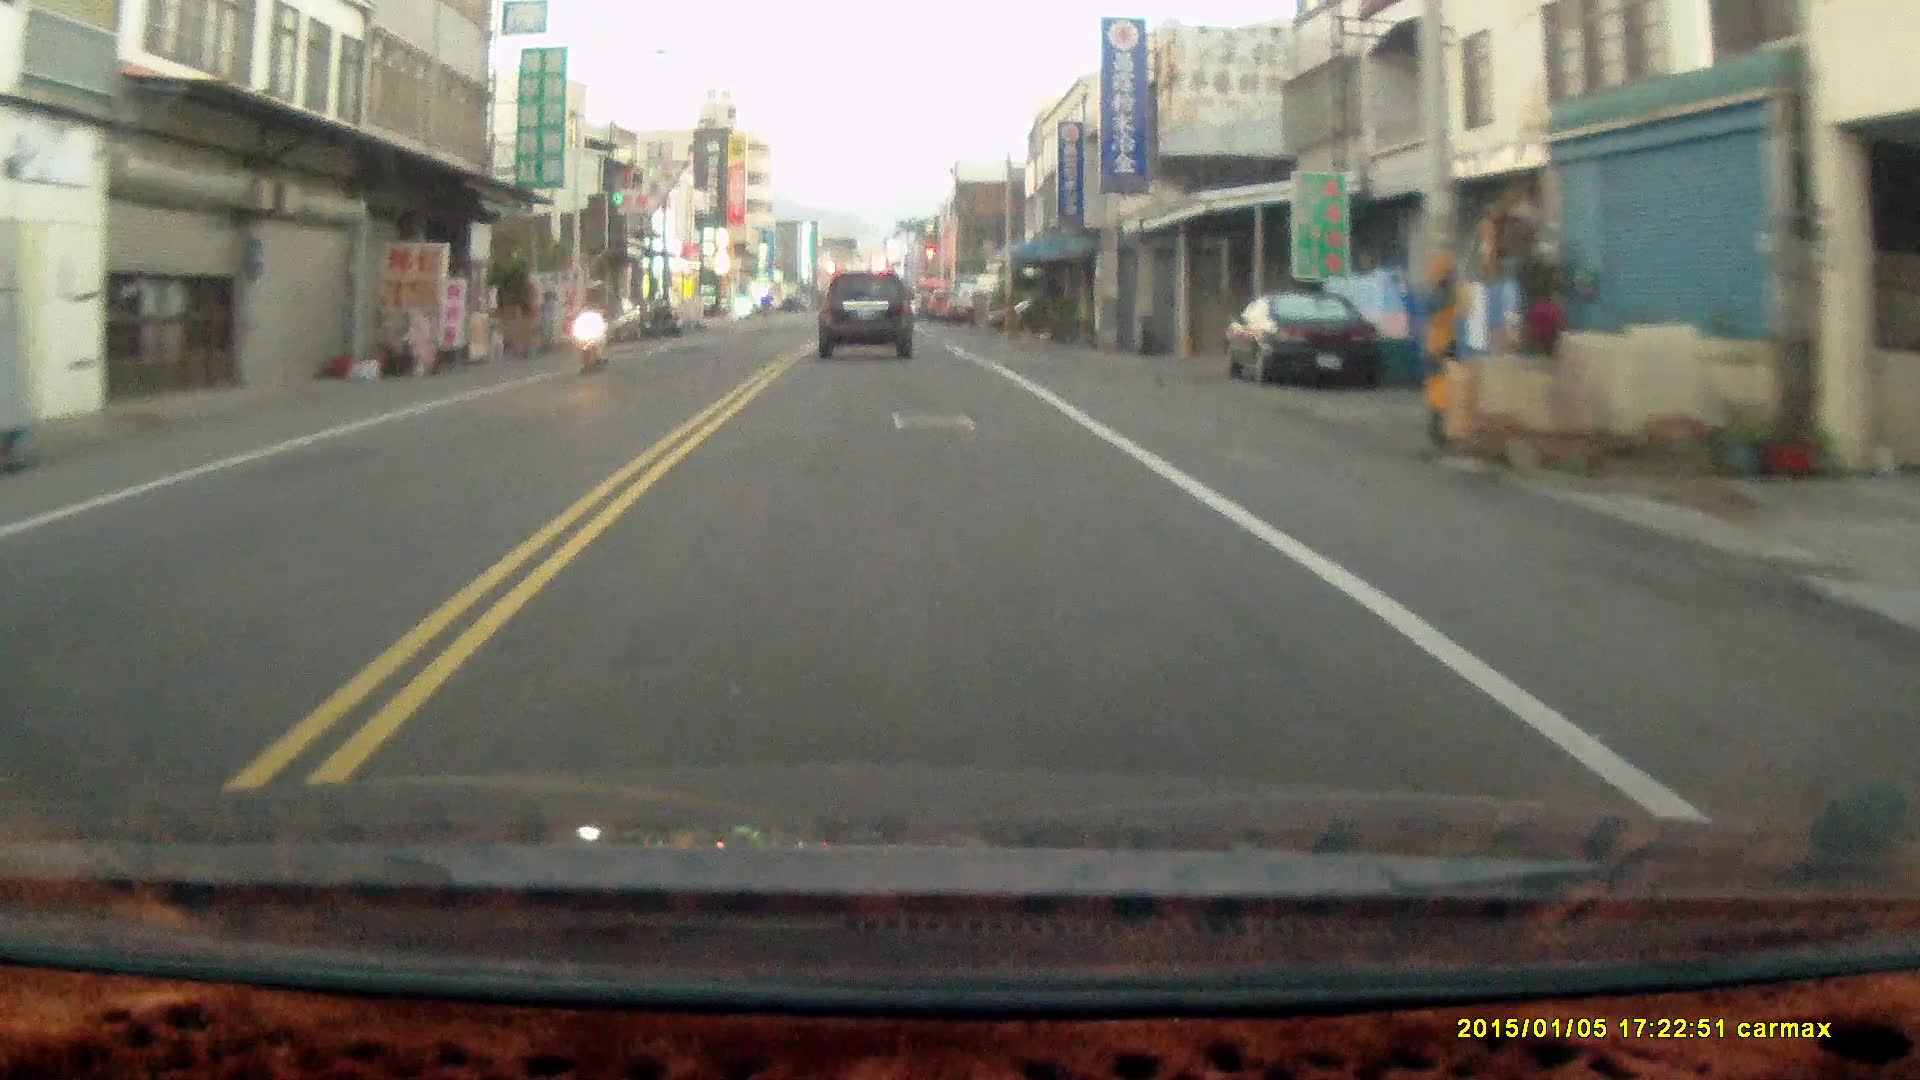rider: (569, 278, 613, 375)
vehicle: (1226, 290, 1388, 392), (818, 272, 916, 361)
